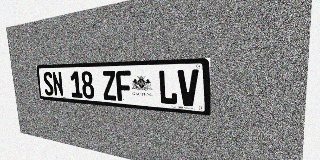1: (69, 71, 83, 98)
8: (81, 71, 95, 99)
F: (116, 70, 132, 102)
L: (158, 70, 178, 105)
N: (52, 71, 64, 97)
S: (43, 72, 54, 96)
V: (177, 69, 199, 107)
Z: (102, 71, 117, 101)
